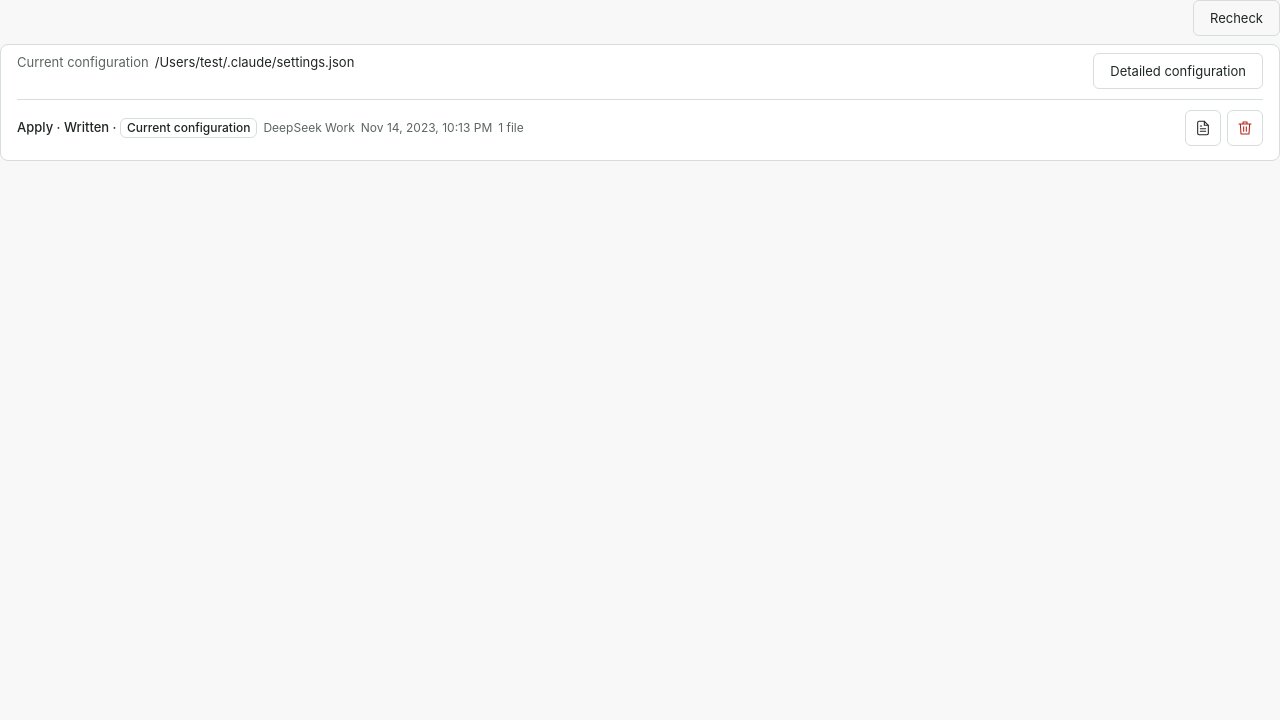
Test: closing the version dialog returns focus to its history action
Click the button named "Show details".
click(1203, 128)  # box [1185, 110, 1221, 146]
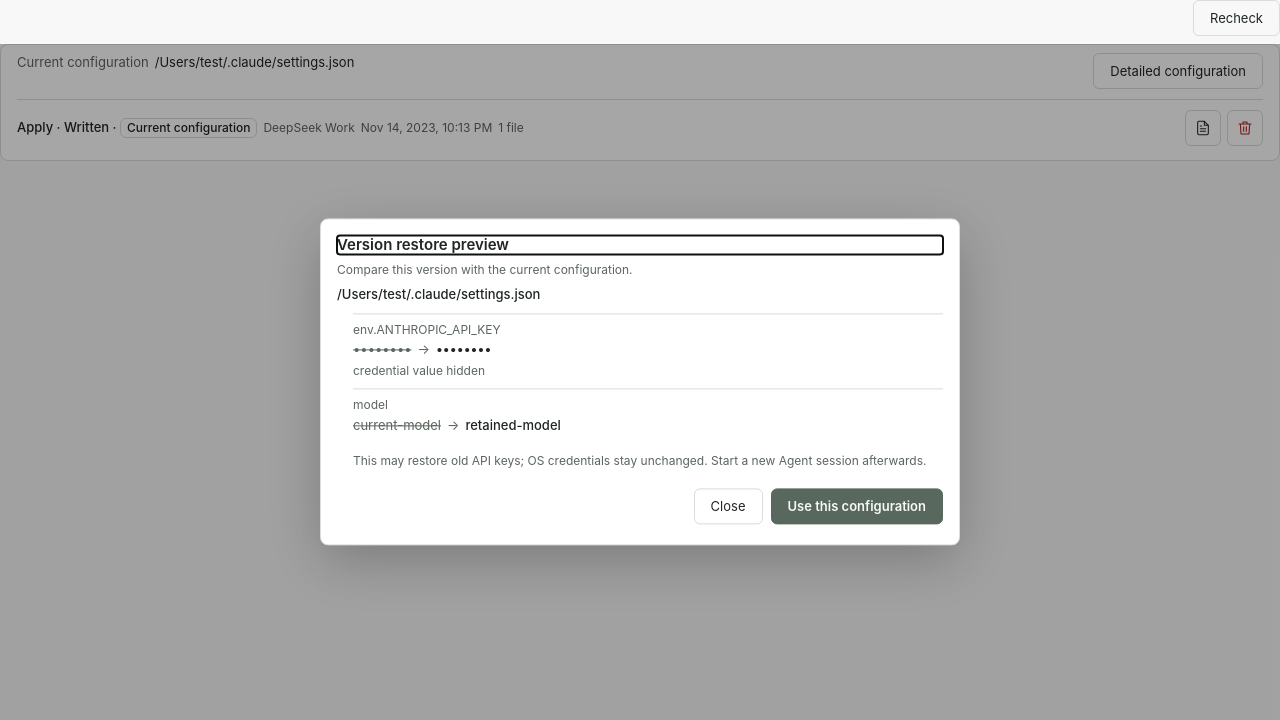
Check: the element named "Version restore preview" is shown, box [337, 285, 943, 529]
Check: the dialog "Version restore preview" is shown, box [320, 218, 960, 546]
Click the button "Close".
click(728, 507)  # box [694, 489, 762, 525]
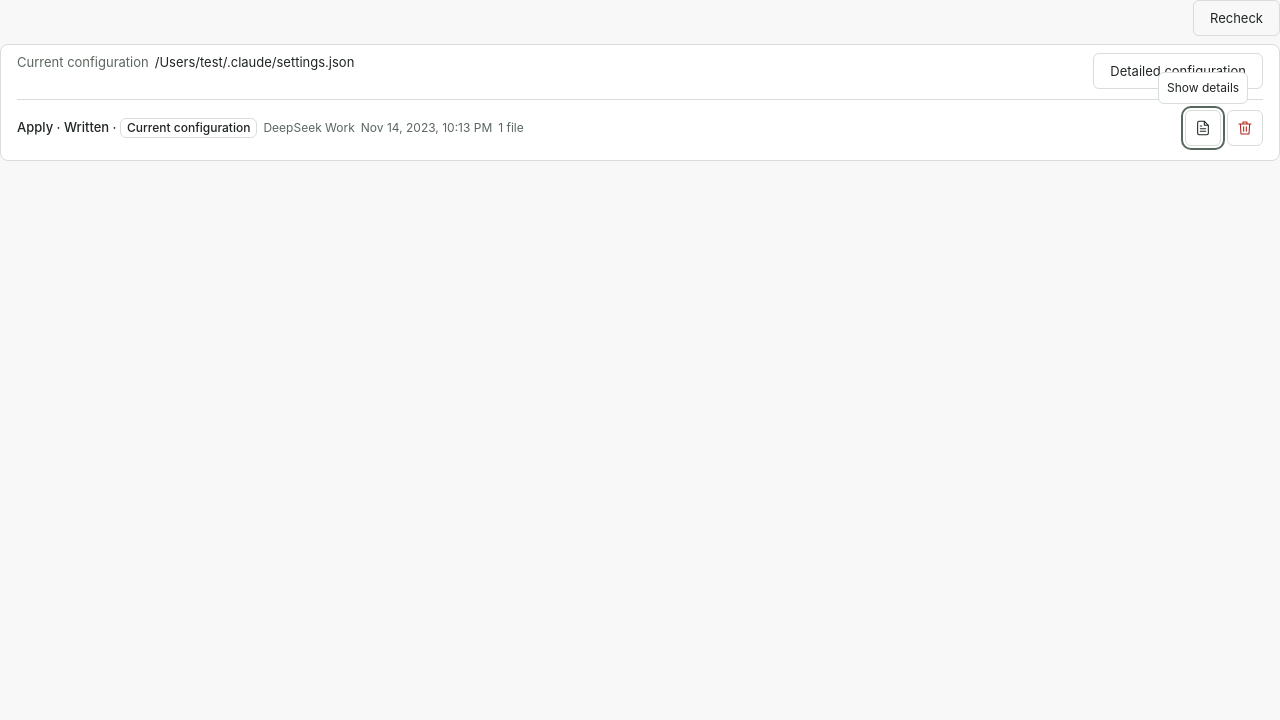
Check: the text "/Users/test/.claude/settings.json" is shown once, box [155, 53, 354, 71]
Check: the heading "Version restore preview" is gone
